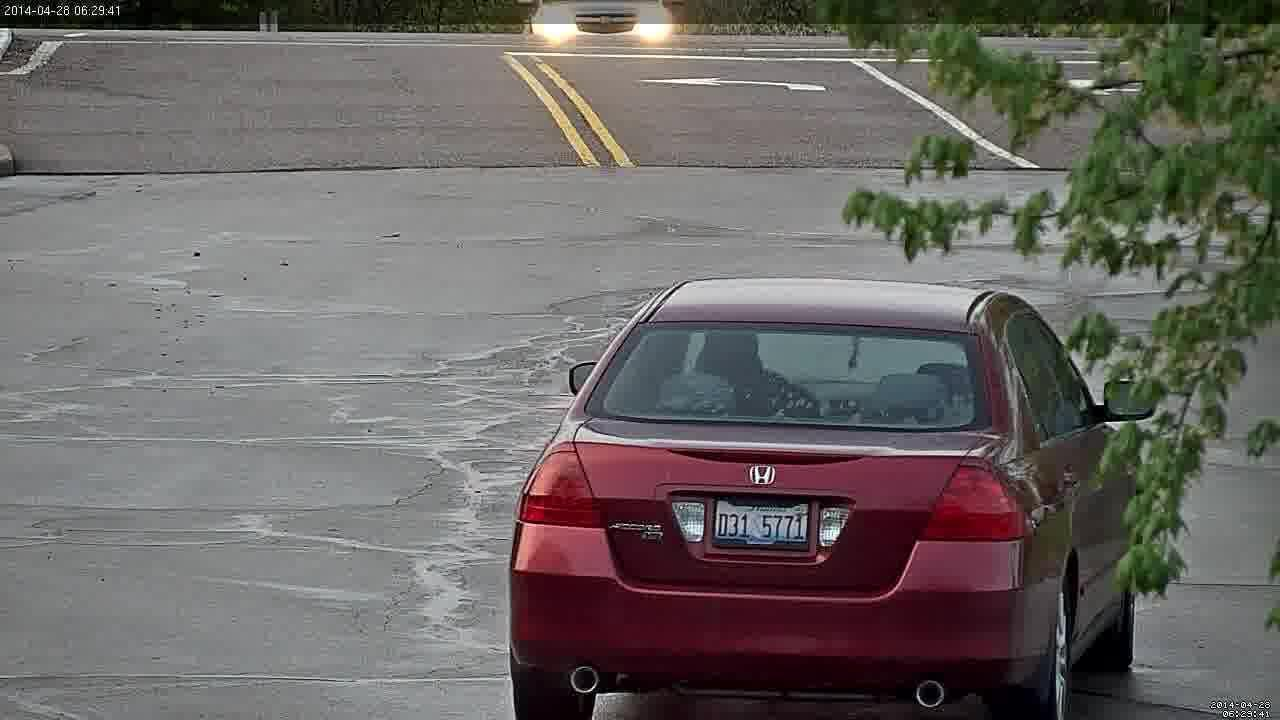placa de veiculo: (700, 493, 830, 562)
